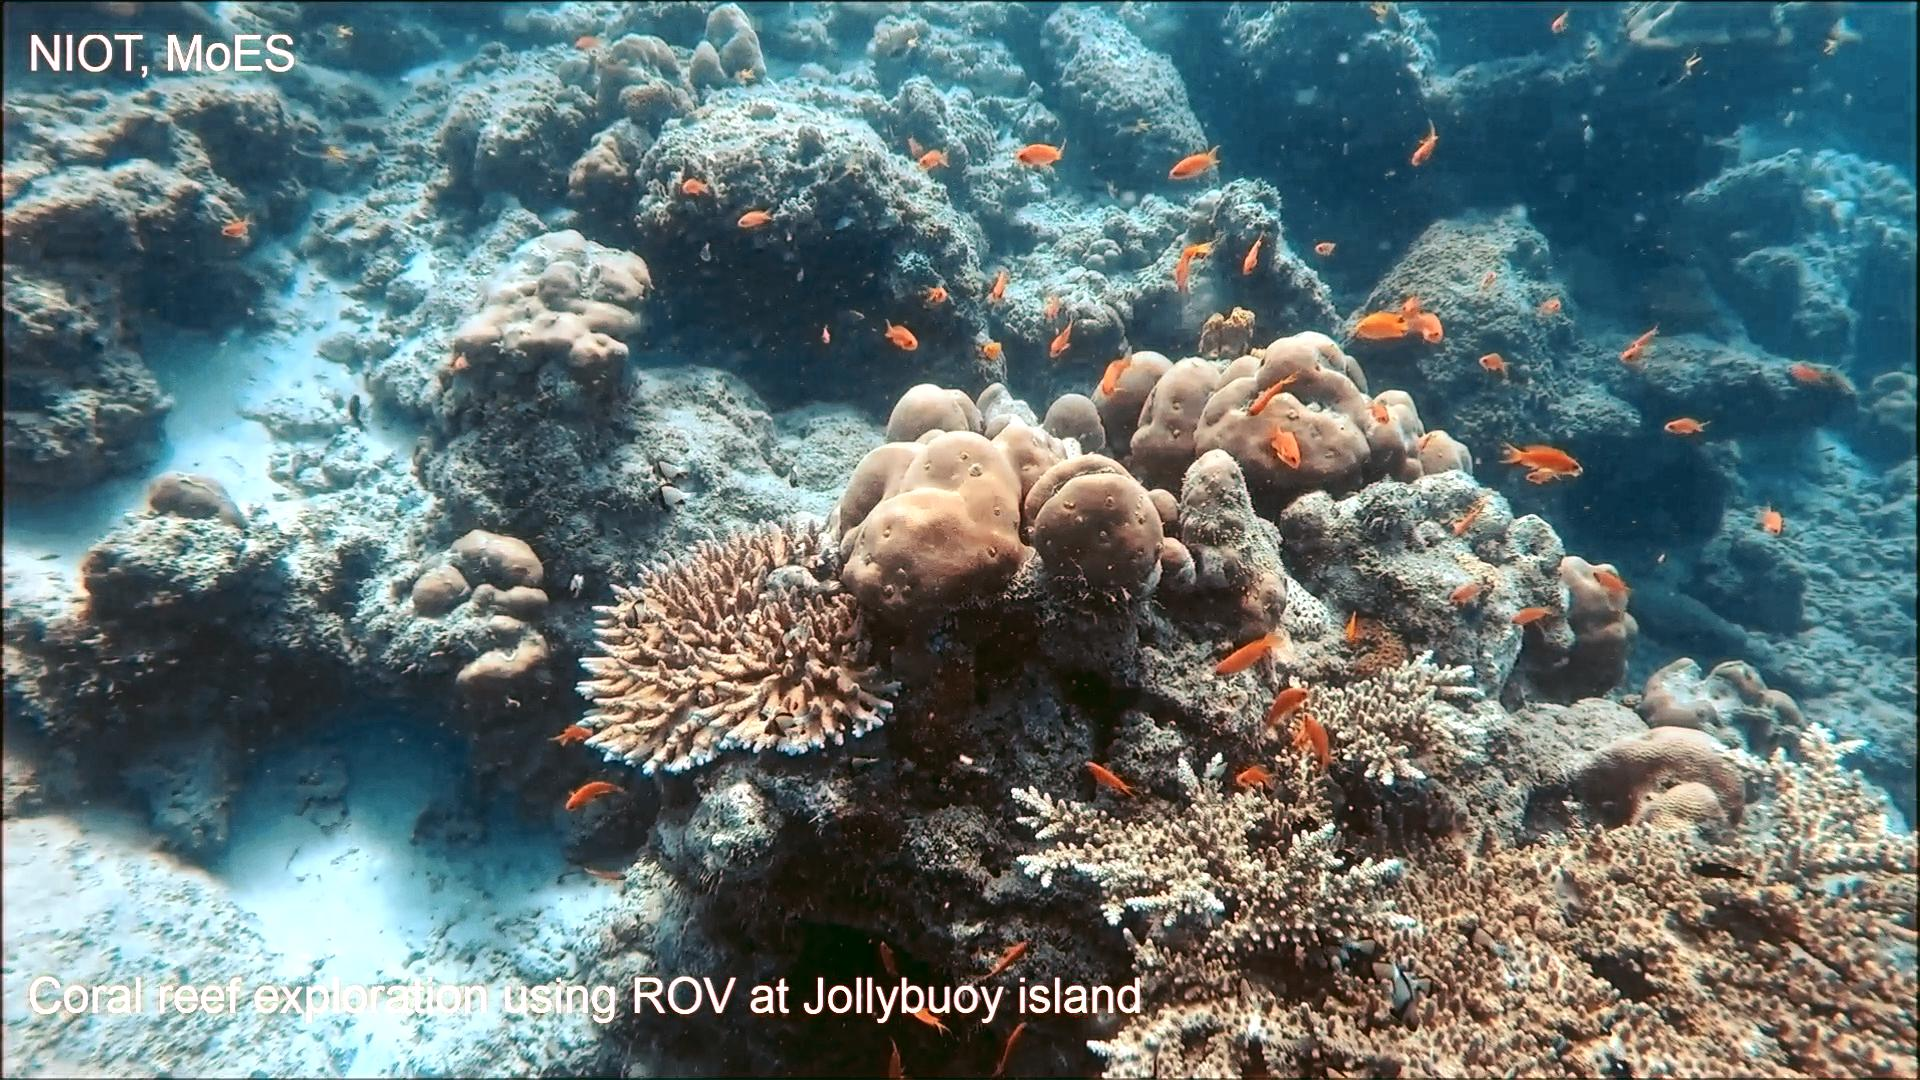Porites-Porites pukoensis: (814, 376, 1170, 640), (1076, 327, 1480, 500)
